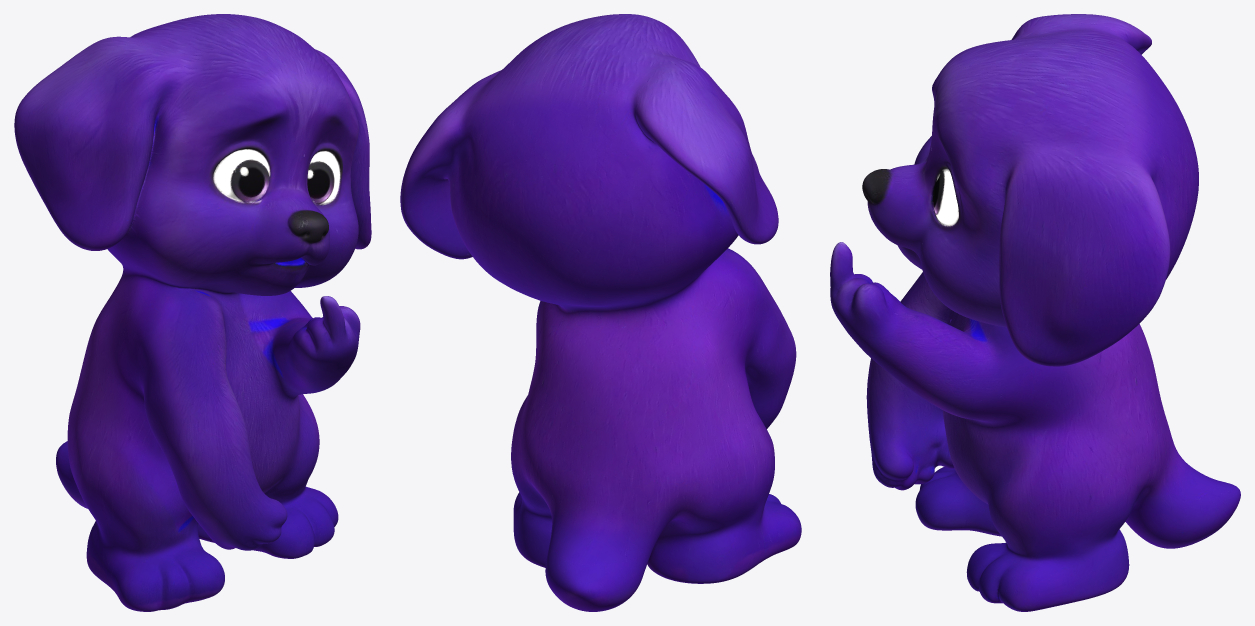
File: monadog2_final.glb
The picture shows the model from 3 angles, left to right: view 1: azimuth 30°, elevation 25°; view 2: azimuth 150°, elevation 25°; view 3: azimuth 270°, elevation 25°; orthographic projection. The views are drawn at different scales.
Bounding box in the file's own units: 1.26 × 1.9 × 1.35.
1 material, 1 textured.
